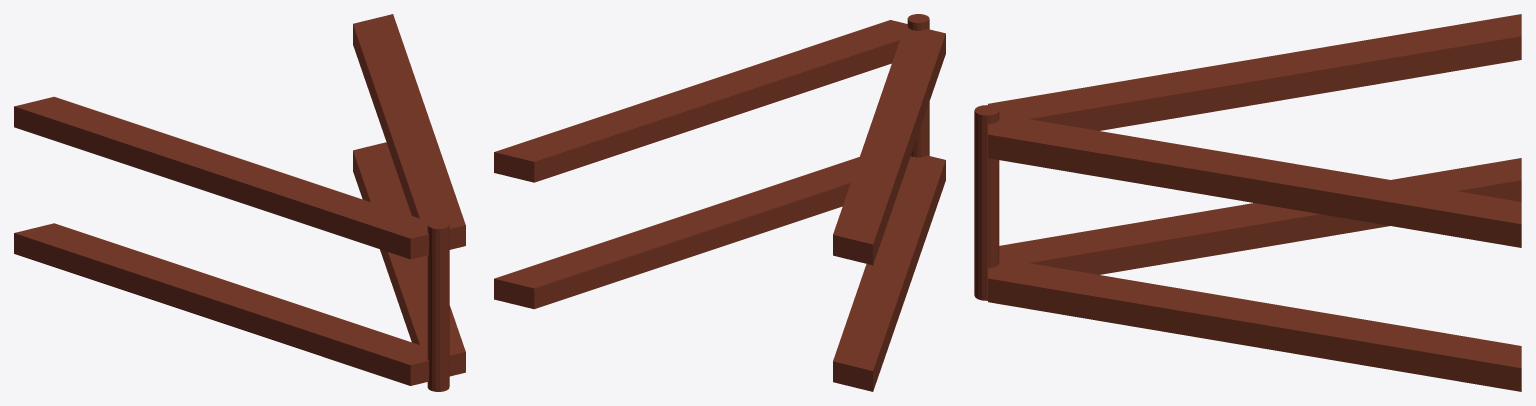
3 renders of one model, left to right at view 1: azimuth 30°, elevation 25°; view 2: azimuth 150°, elevation 25°; view 3: azimuth 270°, elevation 25°, orthographic. The views are drawn at different scales.
Visible parts, largest first — view 1: base; view 2: base; view 3: base.
Boxes of the visible parts, bbox=[...] form: base: bbox=[14, 14, 465, 391]; base: bbox=[494, 14, 945, 391]; base: bbox=[974, 14, 1521, 391].
Bounding box in the file's own units: 7.55 × 3.1 × 8.3.
